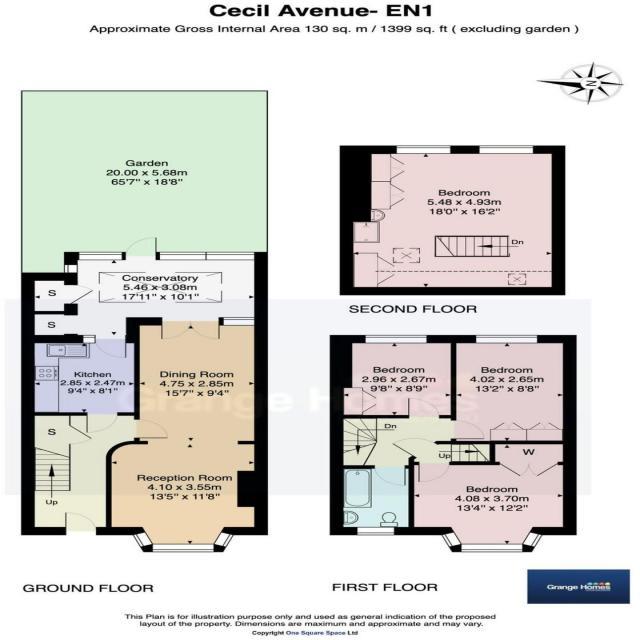DOOR: (390, 437, 439, 459), (63, 511, 98, 536), (95, 334, 127, 359), (417, 461, 451, 483), (373, 464, 407, 486), (450, 420, 486, 440), (133, 419, 169, 439), (85, 412, 119, 433), (407, 397, 440, 418)
ROOM: (105, 317, 269, 553), (339, 145, 566, 296), (408, 440, 577, 553), (450, 335, 577, 444), (21, 334, 140, 434), (329, 334, 457, 418)
WINDOW: (130, 531, 236, 553), (440, 531, 544, 553), (364, 334, 428, 343), (475, 335, 538, 344), (396, 145, 452, 154), (478, 145, 534, 154), (356, 526, 396, 536), (222, 317, 255, 326), (82, 334, 96, 344)
